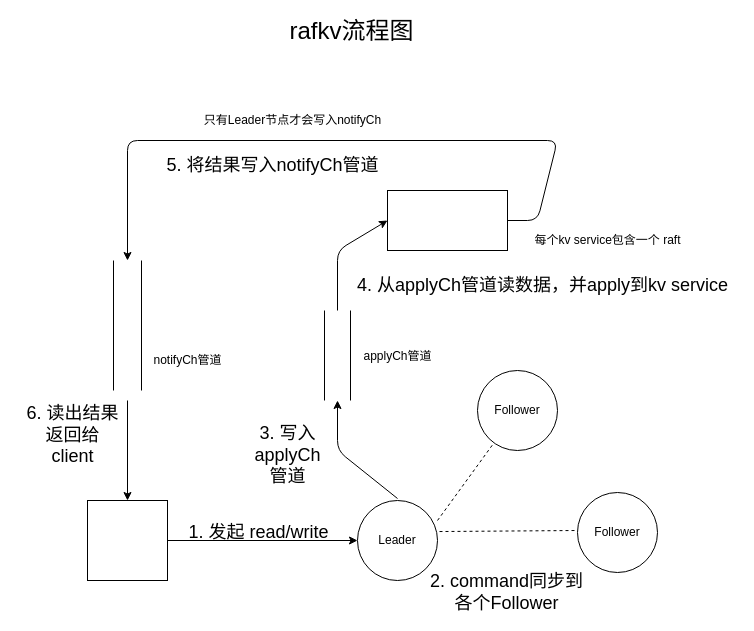
This 754x631 diagram has some shape labels left out. The shapes that lost their labels are listed below. From the top down, each one's centre as x and y in pixels, then its label:
(x=447, y=220): kv service
(x=127, y=540): client
